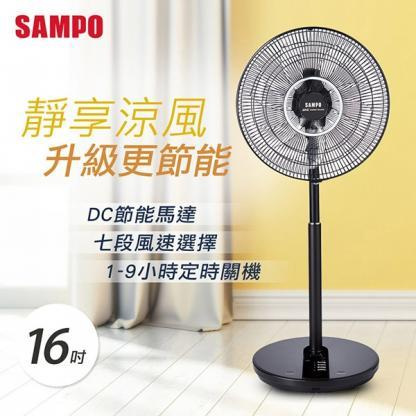fan: (245, 26, 394, 188)
